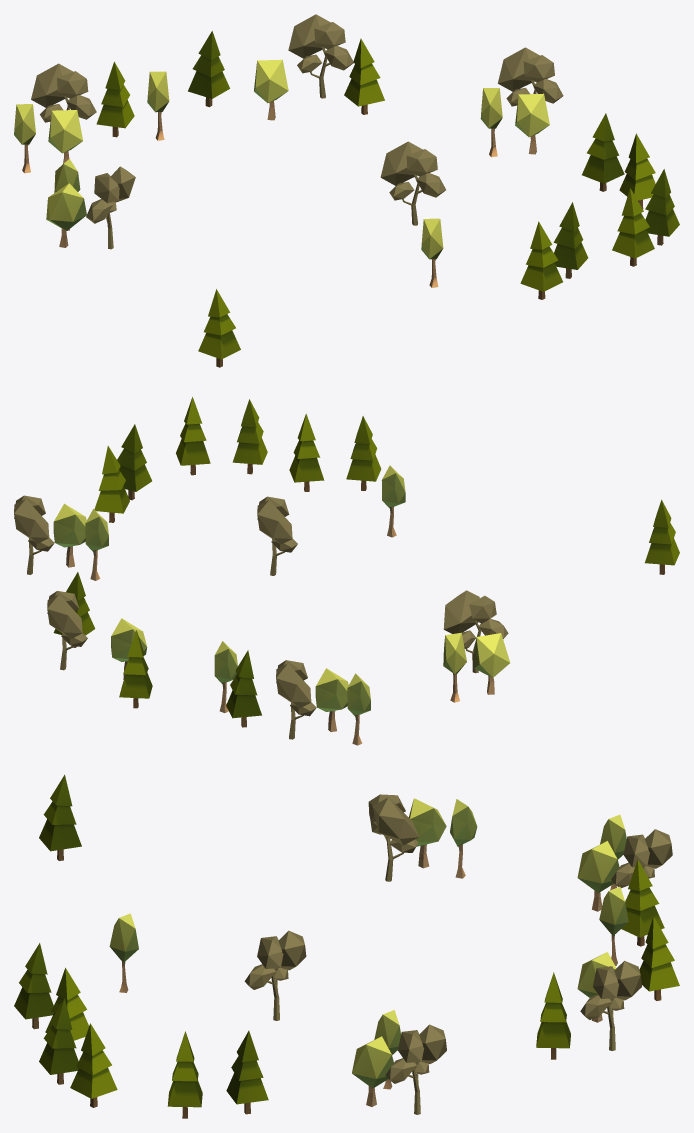
Rendered from trees.gltf.
3 renders of one model, top to bottom at view 1: azimuth 30°, elevation 25°; view 2: azimuth 150°, elevation 25°; view 3: azimuth 270°, elevation 25°, orthographic. The views are drawn at different scales.
Visible parts, largest first — view 1: trees; view 2: trees; view 3: trees.
Part boxes in pixels (box(x1,y1,x2,y2)): trees: box(14, 14, 679, 367); trees: box(14, 397, 679, 745); trees: box(14, 774, 679, 1118).
Bounding box in the file's own units: 6.88 × 1.08 × 7.03.
Materials: 2 (2 with a texture image).
